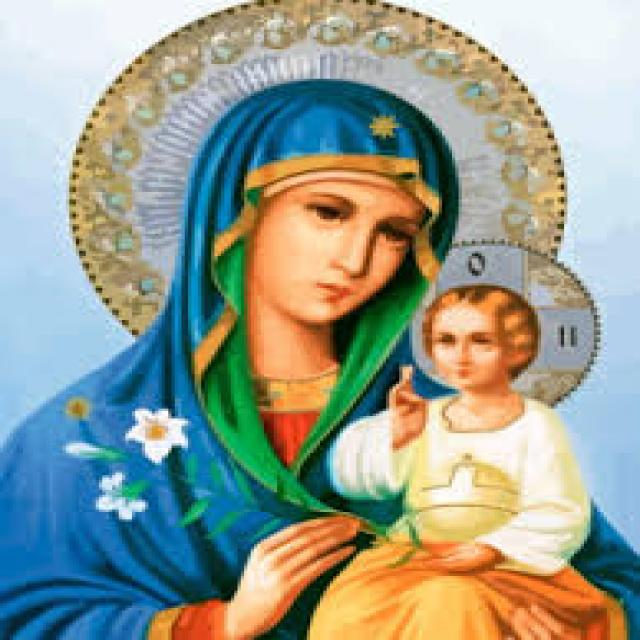mother of god: (39, 60, 610, 640)
